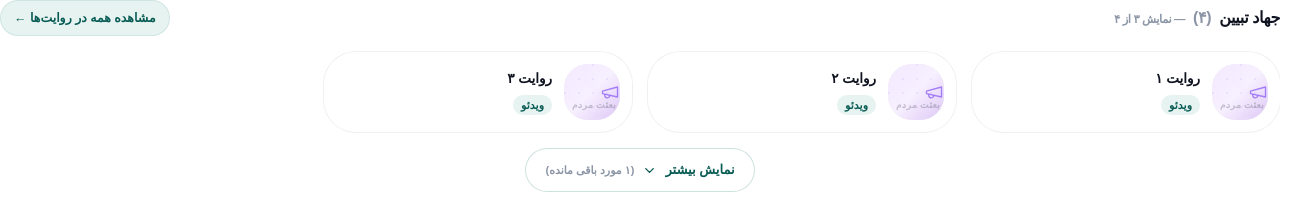
Test case: SearchGroupSection — «نمایش بیشتر» در همان صفحه › خطای شبکه → چیپِ «تلاش دوباره» که همان صفحه را دوباره می‌طلبد
Click the button "نمایش بیشتر (۱ مورد باقی مانده)" at (640, 170), box 526,148 -> 754,192
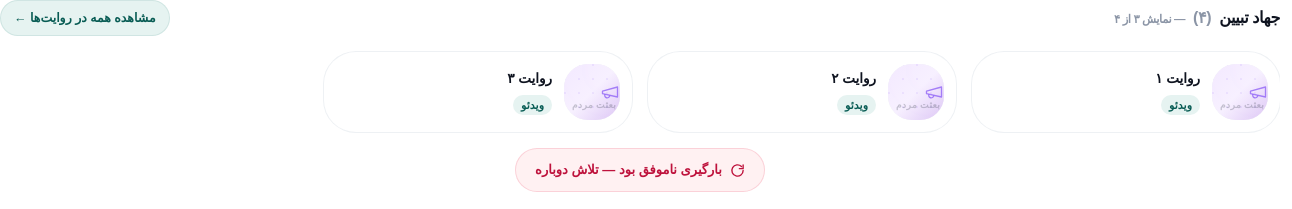
Click the button "بارگیری ناموفق بود — تلاش دوباره" at (640, 170), box 515,148 -> 765,192
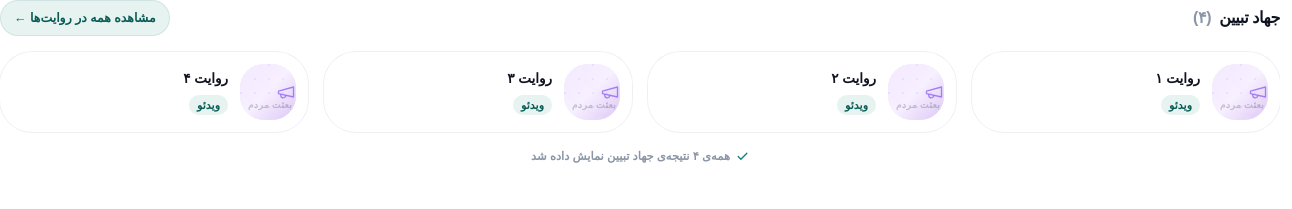
Now the text "روایت ۴" is shown, box 183,71 -> 228,86
